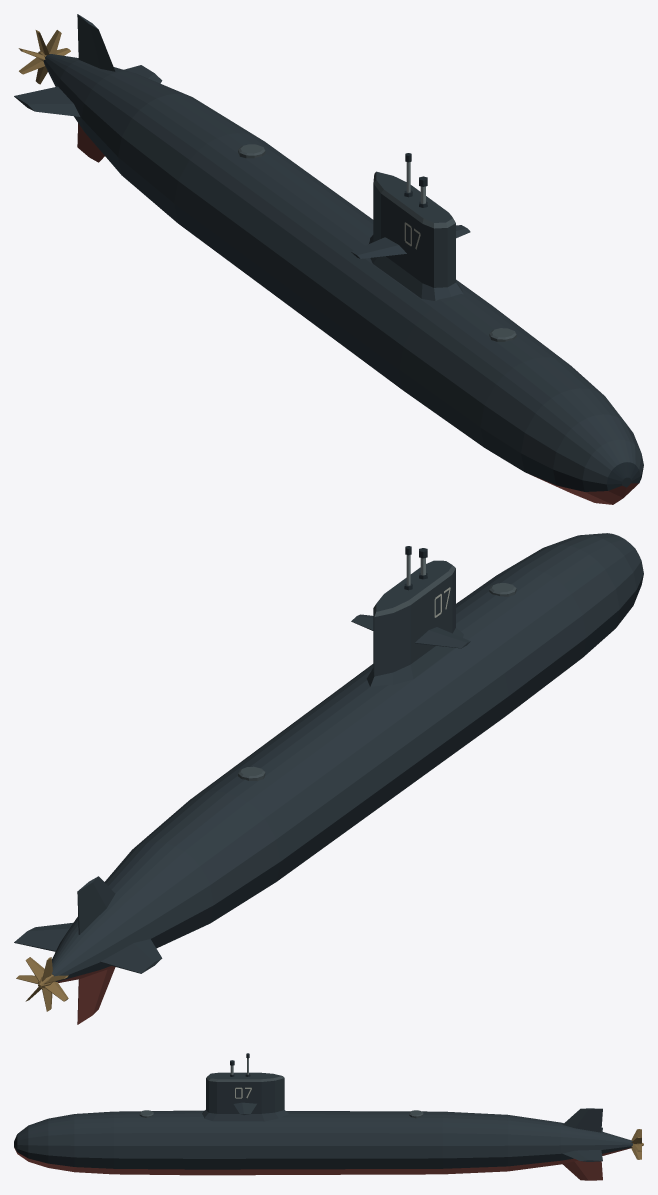
The model's file is nuclear_sub_mid.glb.
3 renders of one model, top to bottom at view 1: azimuth 30°, elevation 25°; view 2: azimuth 150°, elevation 25°; view 3: azimuth 270°, elevation 25°, orthographic. The views are drawn at different scales.
Parts seen in each view (by area): view 1: Nuclear submarine; view 2: Nuclear submarine; view 3: Nuclear submarine.
Boxes of the visible parts, x1=… form: Nuclear submarine: x1=14, y1=14, x2=643, y2=504; Nuclear submarine: x1=14, y1=533, x2=643, y2=1024; Nuclear submarine: x1=14, y1=1053, x2=643, y2=1180.
Size of the model in its own units: 12 by 21.18 by 95.85.
